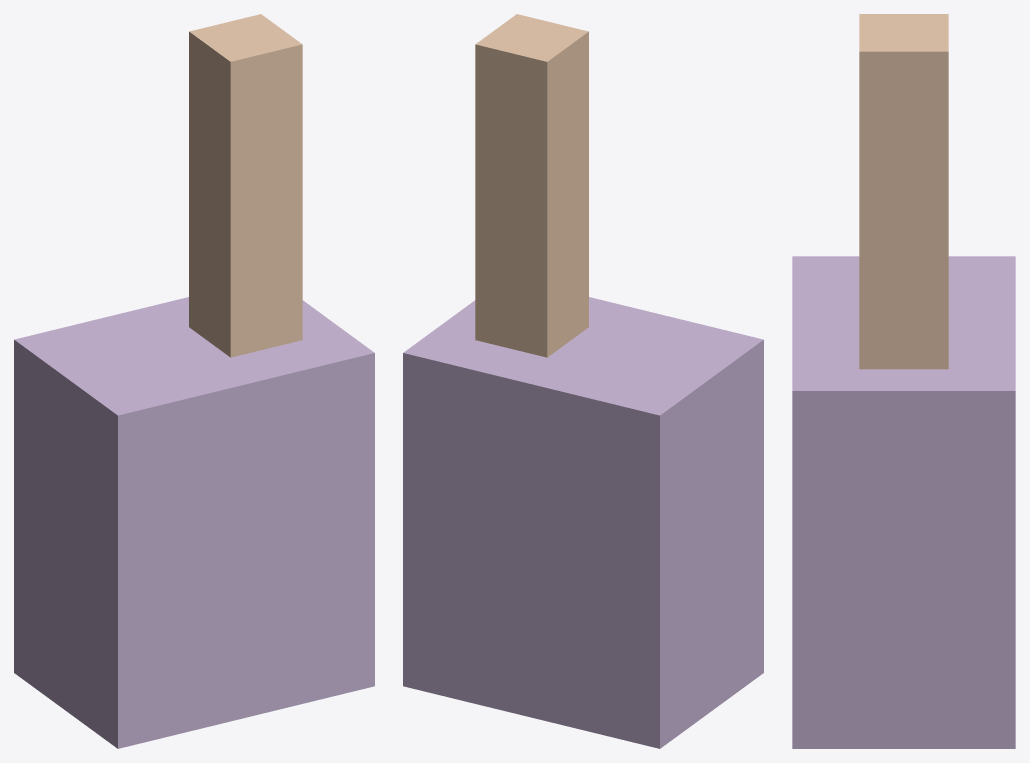
The model's file is puppet-v2.glb.
3 views of the same model, side by side, from view 1: azimuth 30°, elevation 25°; view 2: azimuth 150°, elevation 25°; view 3: azimuth 270°, elevation 25° (orthographic). The views are drawn at different scales.
Bounding box in the file's own units: 0.5 × 1.17 × 0.35.
